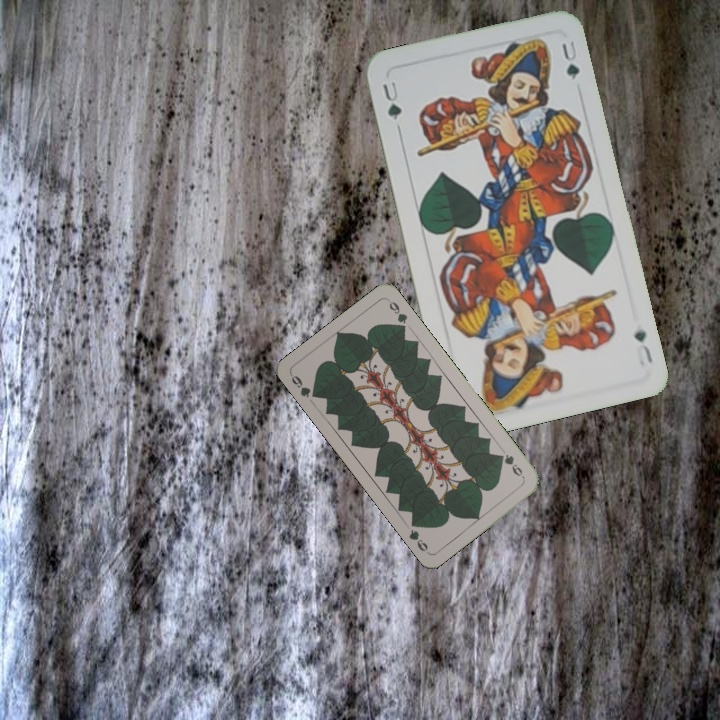G9: (287, 371, 322, 401), (495, 450, 527, 481)
GU: (378, 77, 405, 123), (630, 326, 655, 369)
